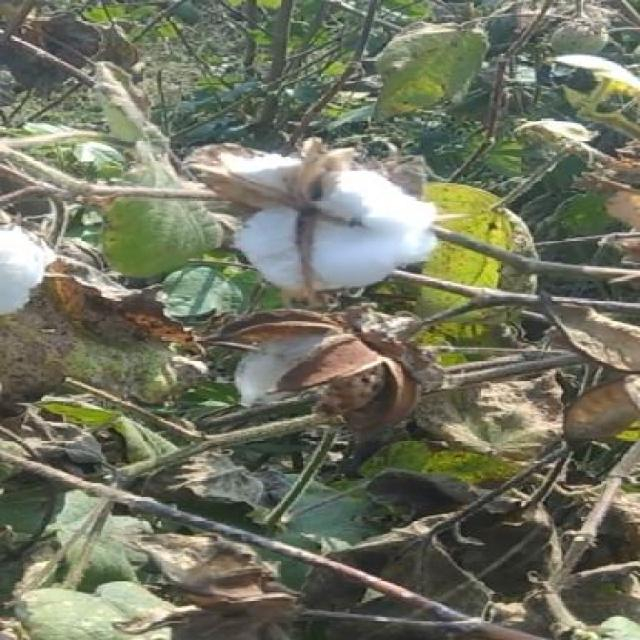cotton_ready: (208, 128, 442, 301)
